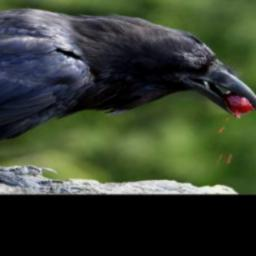Crow: (0, 7, 256, 194)
